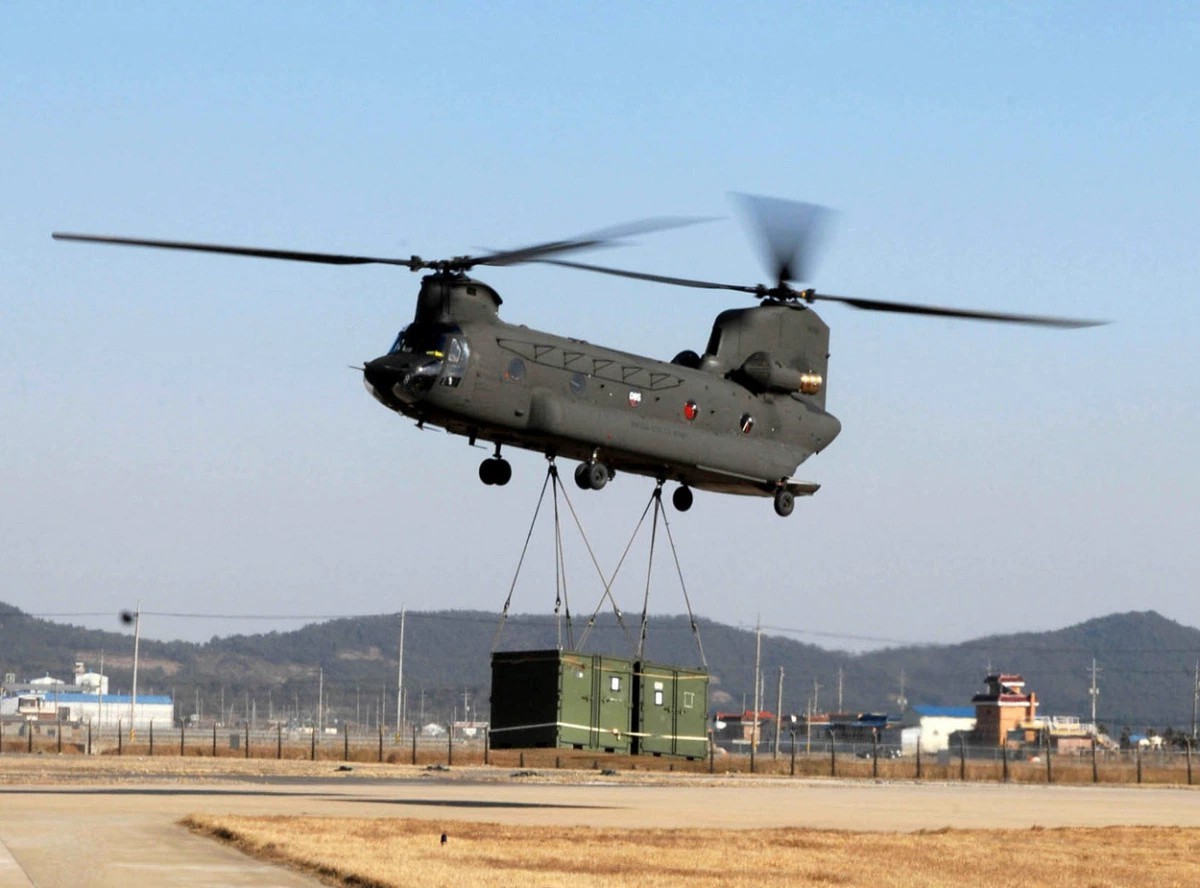chinook: (105, 187, 1135, 520)
